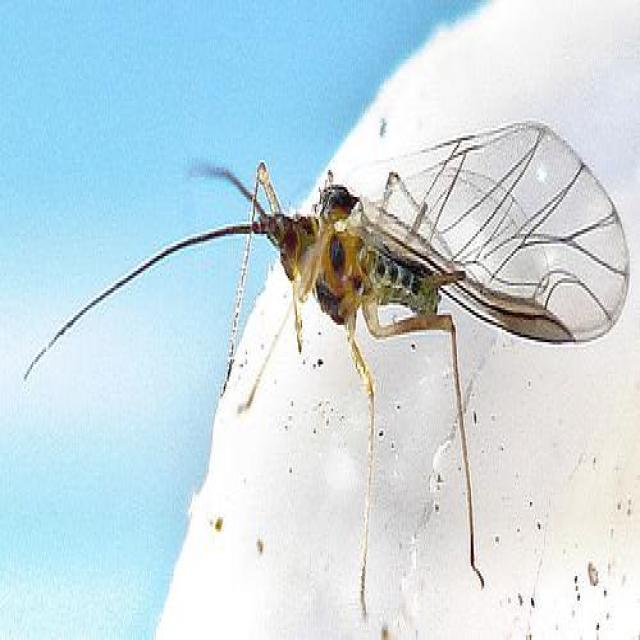Aphids: (37, 58, 620, 594)
